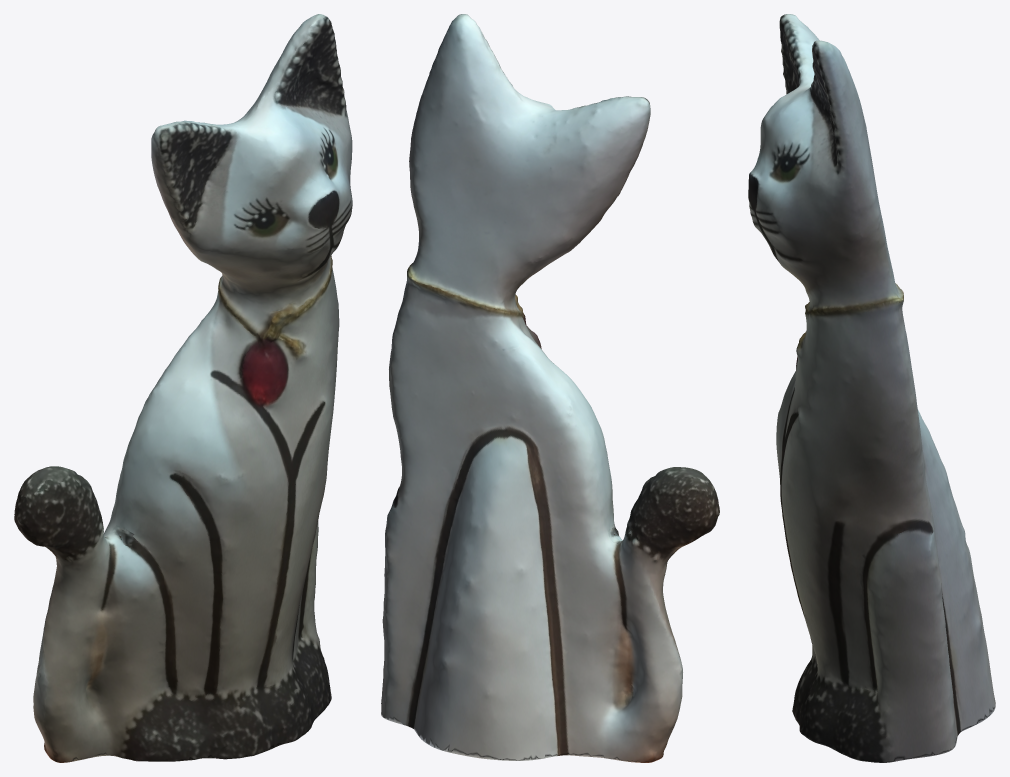
Rendered from cat.glb.
3 renders of one model, left to right at view 1: azimuth 30°, elevation 25°; view 2: azimuth 150°, elevation 25°; view 3: azimuth 270°, elevation 25°, orthographic. The views are drawn at different scales.
Parts seen in each view (by area): view 1: cat2; view 2: cat2; view 3: cat2.
Part boxes in pixels (bbox=[...]): cat2: bbox=[14, 14, 352, 762]; cat2: bbox=[381, 14, 719, 762]; cat2: bbox=[748, 14, 995, 762].
Bounding box in the file's own units: 14.78 × 30.68 × 9.7.
1 material, 1 textured.
